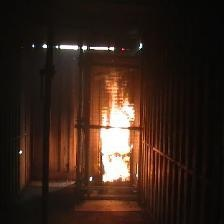fire: (92, 96, 140, 183)
